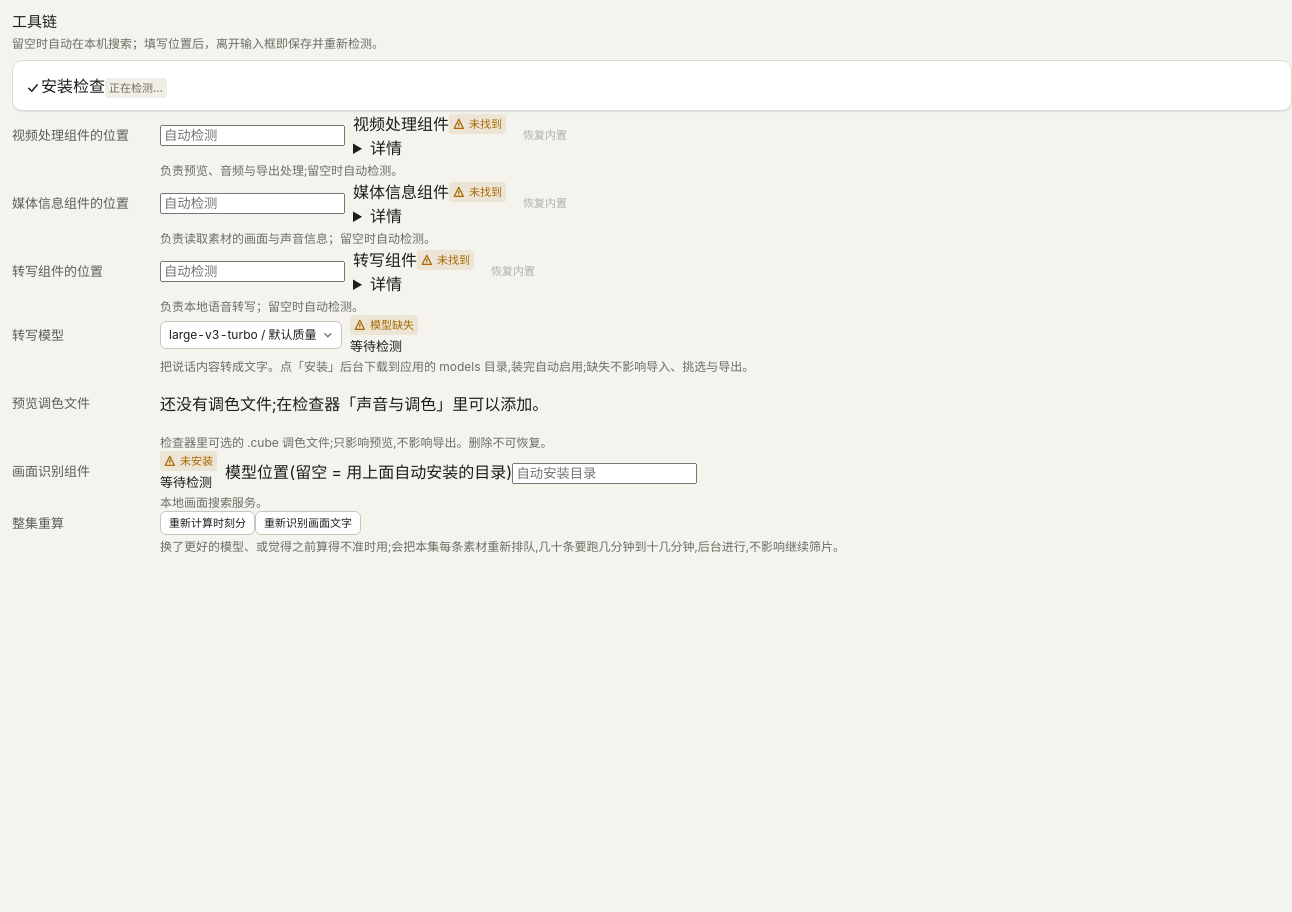
Test: 整集重算(A16-04) › 排了 n 条 → 「已排队 n 条」
This screenshot has width=1292, height=912.
Click the button "重新计算时刻分" at (208, 523), box [160,511,255,535]
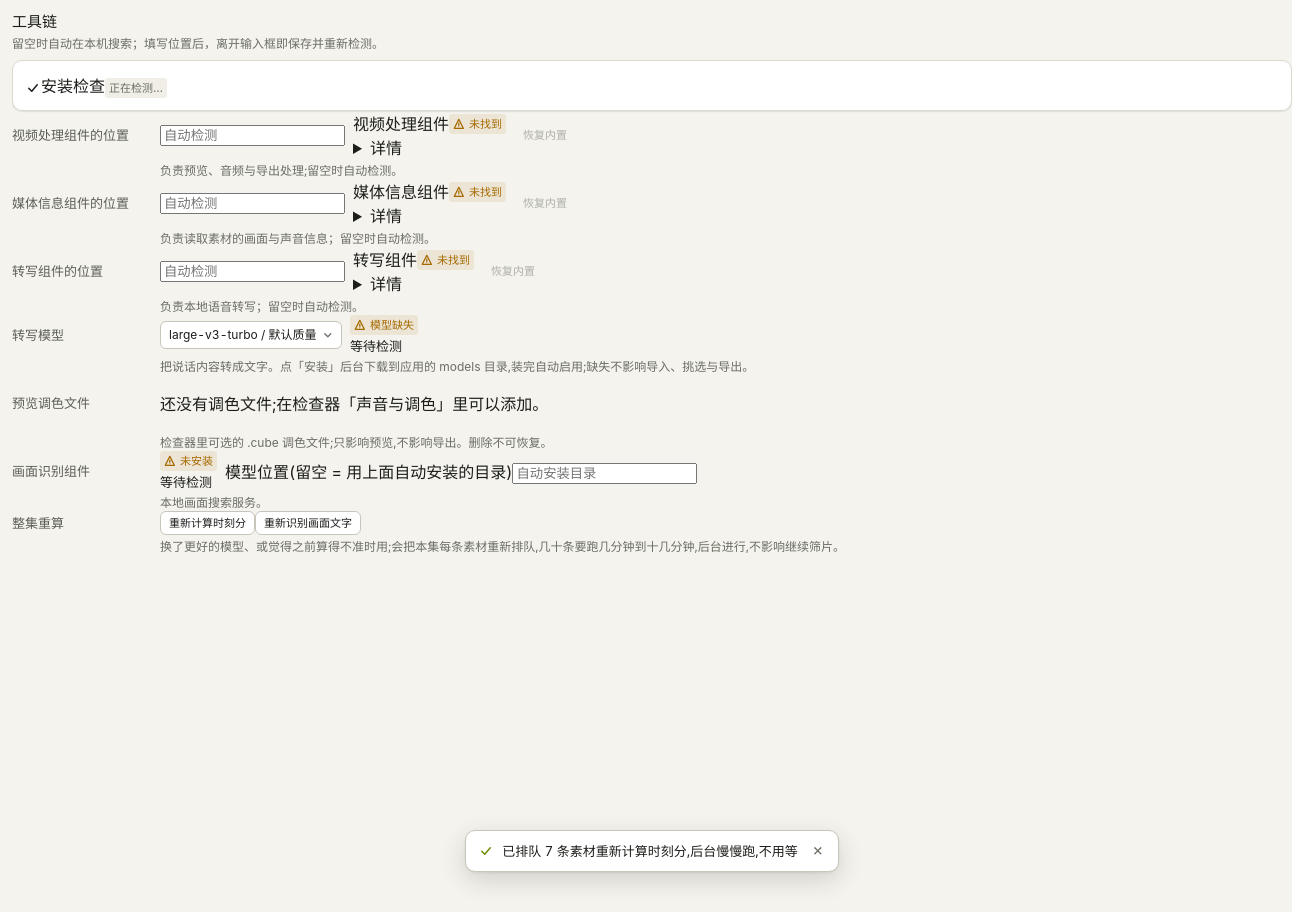
Result: the text "已排队 7 条素材重新计算时刻分,后台慢慢跑,不用等" is shown at [502,842,798,860]
